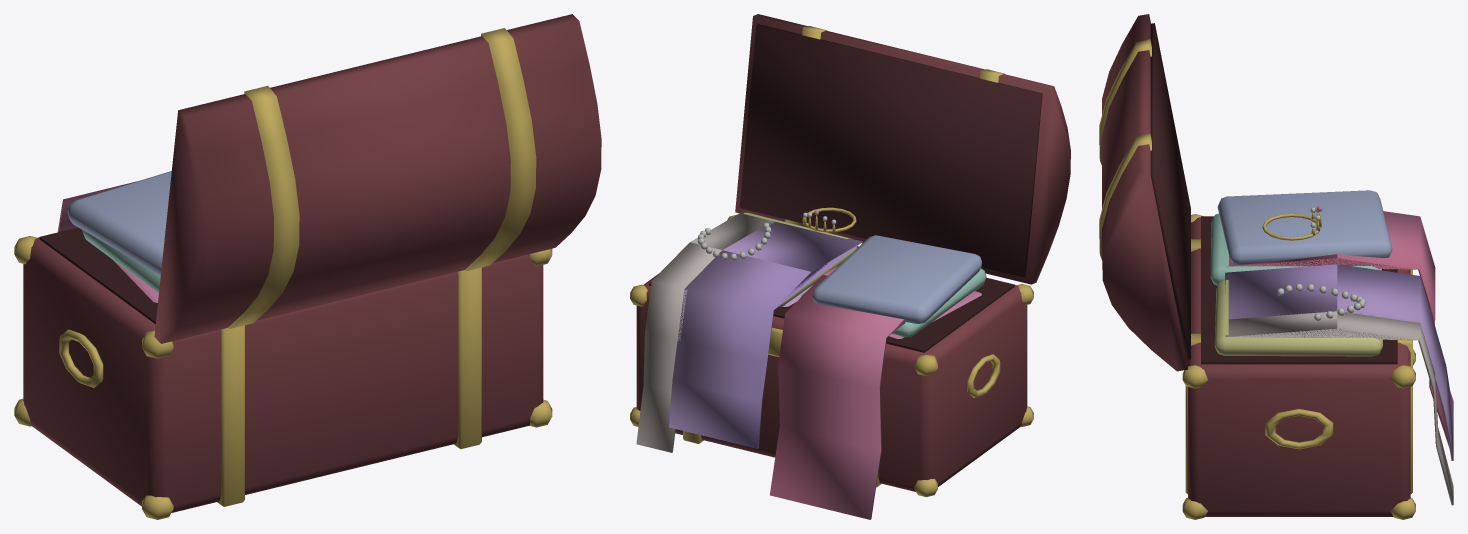
The model's file is trunk_gowns.glb.
3 views of the same model, side by side, from view 1: azimuth 30°, elevation 25°; view 2: azimuth 150°, elevation 25°; view 3: azimuth 270°, elevation 25° (orthographic). The views are drawn at different scales.
Parts seen in each view (by area): view 1: trunk_gowns; view 2: trunk_gowns; view 3: trunk_gowns.
Part boxes in pixels (x1,y1,x2,y2): trunk_gowns: (14,14,601,519); trunk_gowns: (630,14,1070,519); trunk_gowns: (1099,14,1453,519).
Size of what is drawn, in the model's own units: 1.04 by 1.1 by 0.955.
